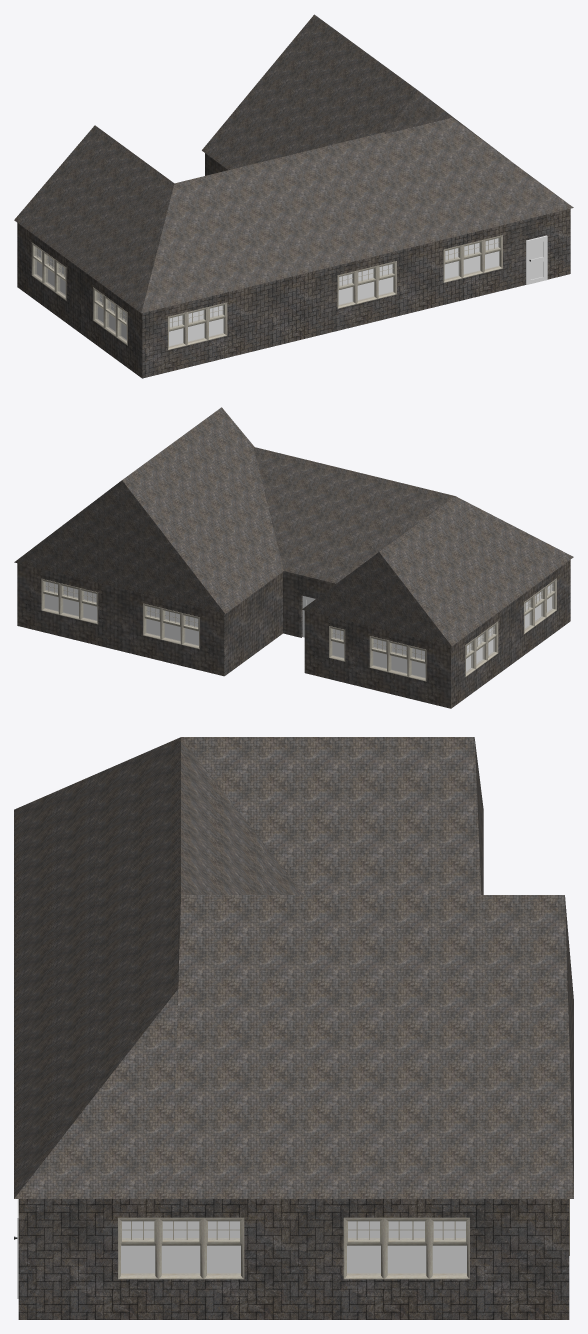
Rendered from RandomHouseOutside07.fbx.
The picture shows the model from 3 angles, top to bottom: view 1: azimuth 30°, elevation 25°; view 2: azimuth 150°, elevation 25°; view 3: azimuth 270°, elevation 25°; orthographic projection. The views are drawn at different scales.
Parts seen in each view (by area): view 1: Slanted Roof, Outside Plain Wall (Floor 1), FancyWindow_stretched (×9), BuildingFiller, generic_door; view 2: Slanted Roof, Outside Plain Wall (Floor 1), FancyWindow_stretched (×13), BuildingFiller; view 3: Slanted Roof, Outside Plain Wall (Floor 1), FancyWindow_stretched (×6), BuildingFiller.
Part boxes in pixels (left/top/right/bottom): Slanted Roof: left=14, top=14, right=573, bottom=313; Outside Plain Wall (Floor 1): left=17, top=153, right=570, bottom=378; FancyWindow_stretched (×9): left=167, top=235, right=502, bottom=349; BuildingFiller: left=37, top=238, right=498, bottom=345; generic_door: left=526, top=235, right=547, bottom=284; Slanted Roof: left=14, top=407, right=573, bottom=646; Outside Plain Wall (Floor 1): left=17, top=560, right=570, bottom=708; FancyWindow_stretched (×13): left=41, top=578, right=546, bottom=681; BuildingFiller: left=45, top=582, right=551, bottom=677; Slanted Roof: left=14, top=737, right=573, bottom=1198; Outside Plain Wall (Floor 1): left=18, top=1199, right=569, bottom=1319; FancyWindow_stretched (×6): left=118, top=1217, right=469, bottom=1279; BuildingFiller: left=121, top=1221, right=466, bottom=1272.
Bounding box in the file's own units: 20.4 × 8 × 12.4.
